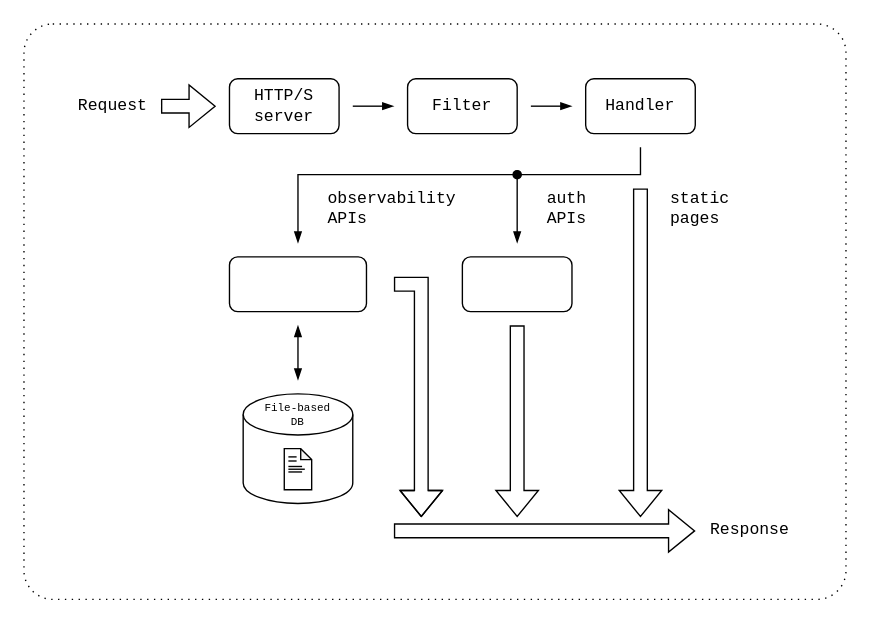
Some shapes in this 870 by 623 pixel diagram are drawn without their labels. The centre of each missing label's shape, as x and y in pixels:
Observability service: (x=297, y=284)
Security service: (x=516, y=284)
